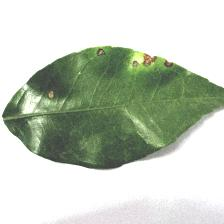canker: (36, 46, 176, 101)
